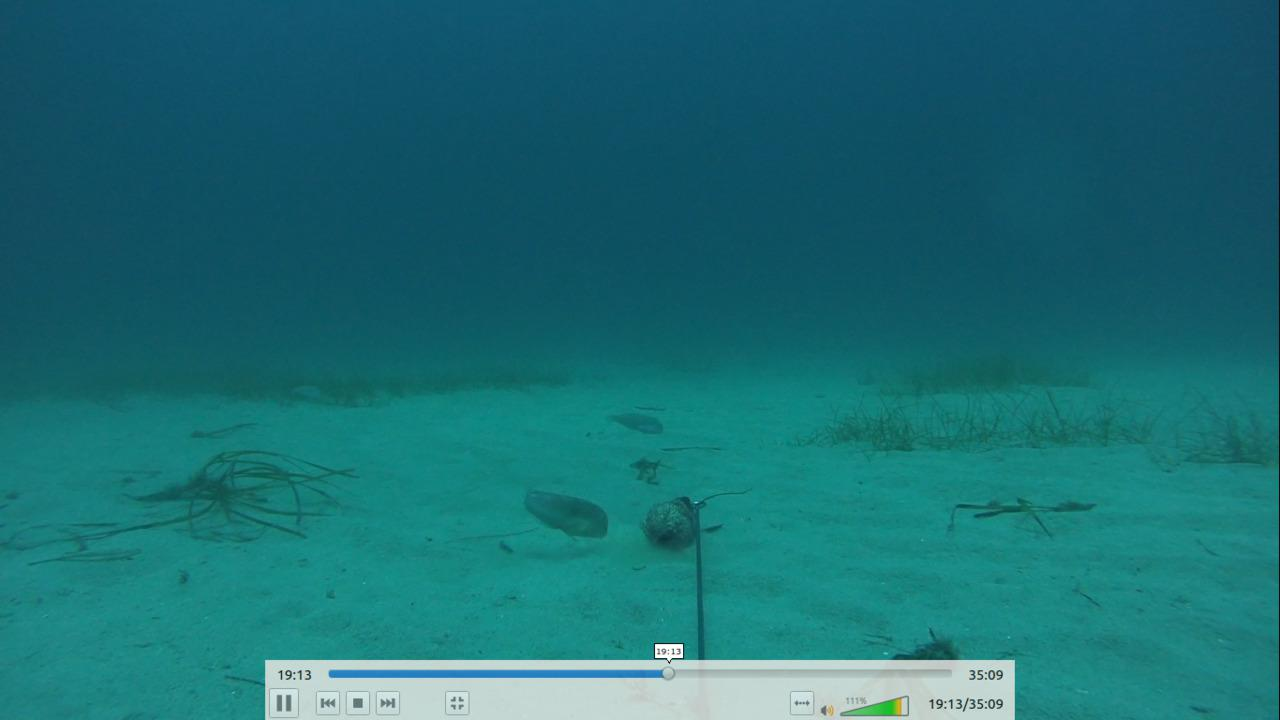raor: (515, 480, 612, 546), (610, 399, 665, 440)
